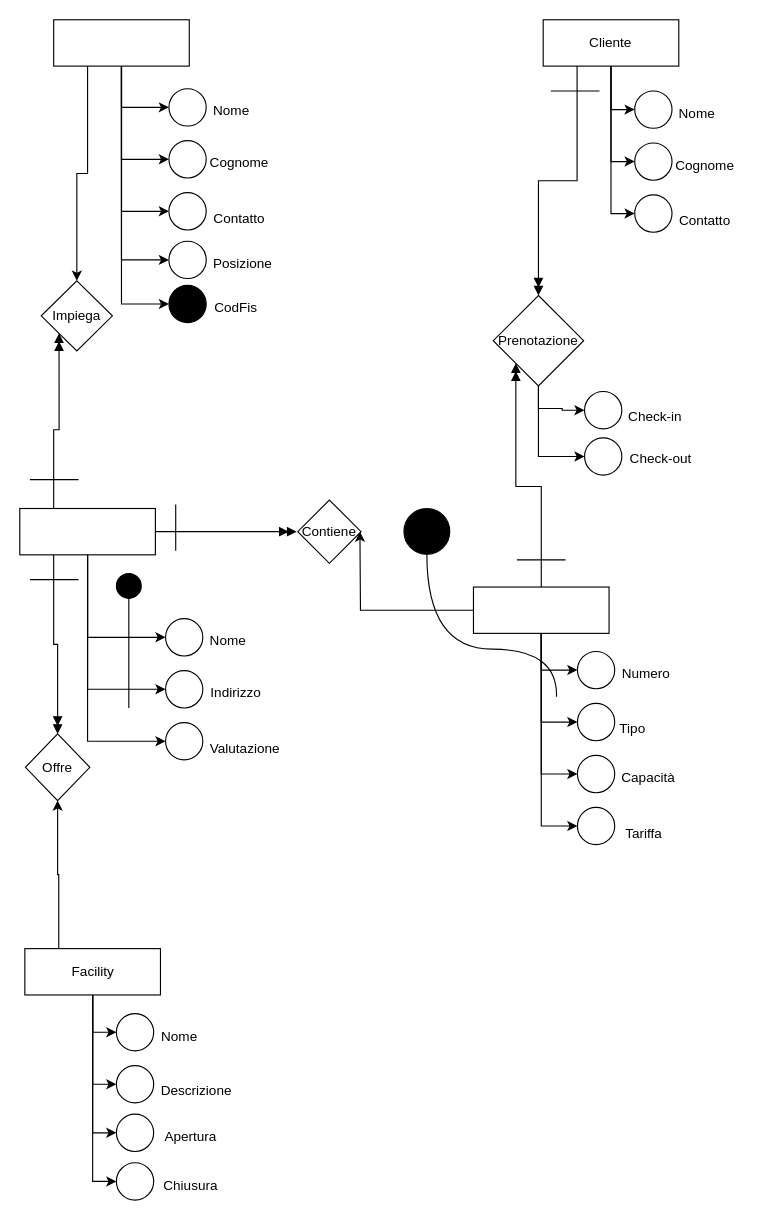
Some shapes in this 764 by 1220 pixel diagram are drawn without their labels. The shapes that lost their labels are listed below. From the top down, each one's centre as x and y in pixels, then its label:
pixel 121 42: Dipendente
pixel 87 531: Albergo
pixel 540 609: Camera
